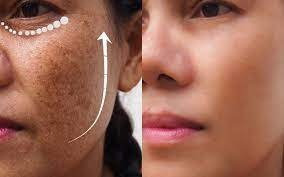Melasma: (60, 0, 112, 30)
